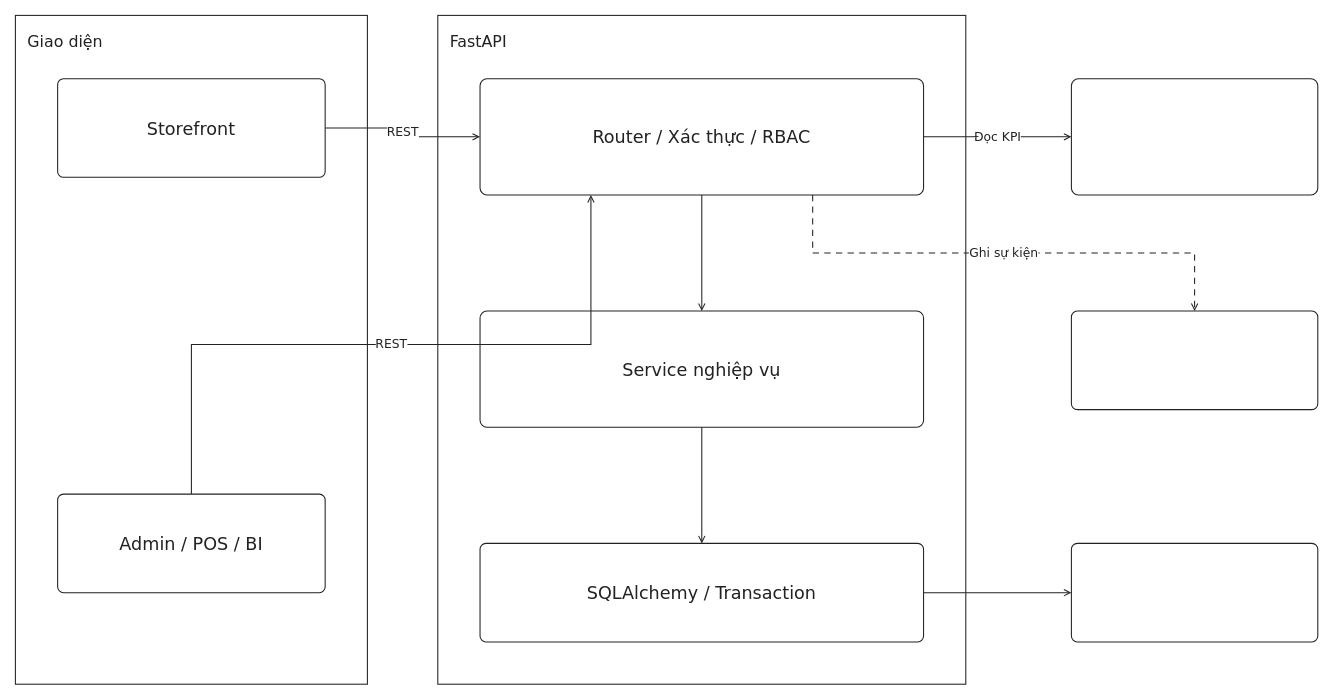
This 1334x700 diagram has some shape labels left out. Each missing label, with the centre of its shape:
"Access Log" goes at pixel 1194 360.
"Analytics API" goes at pixel 1194 136.
"MySQL" goes at pixel 1194 592.
